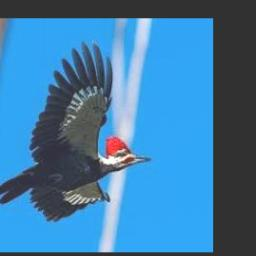Woodpecker: (0, 40, 150, 221)
